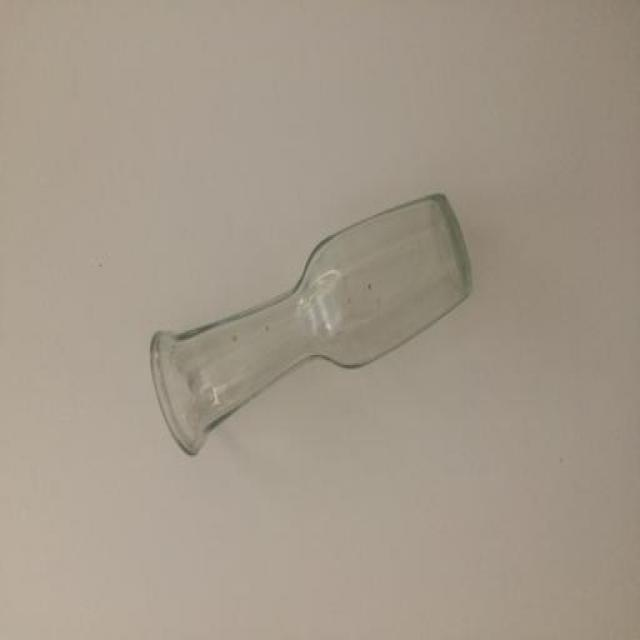Waste: (151, 193, 472, 454)
